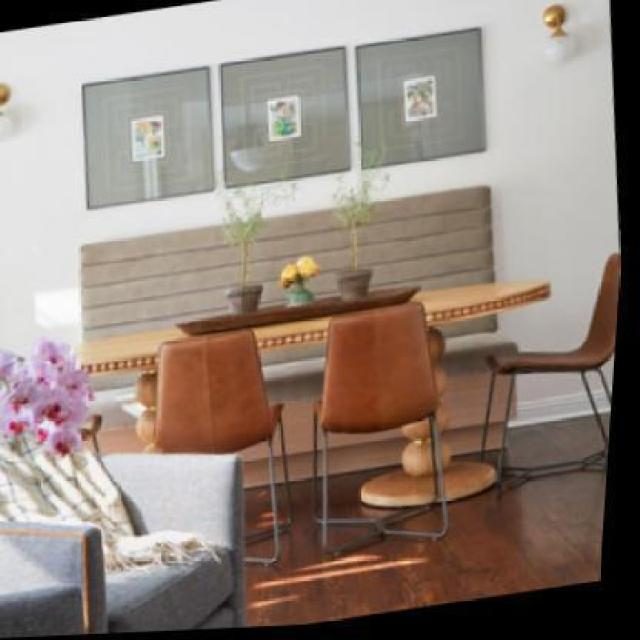tables: (38, 277, 551, 506)
